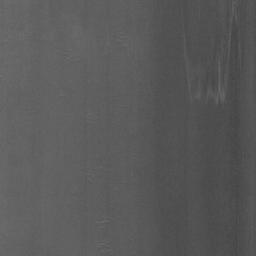Silk spot: (223, 0, 246, 100), (201, 35, 220, 62), (202, 67, 218, 96), (226, 0, 232, 18)
